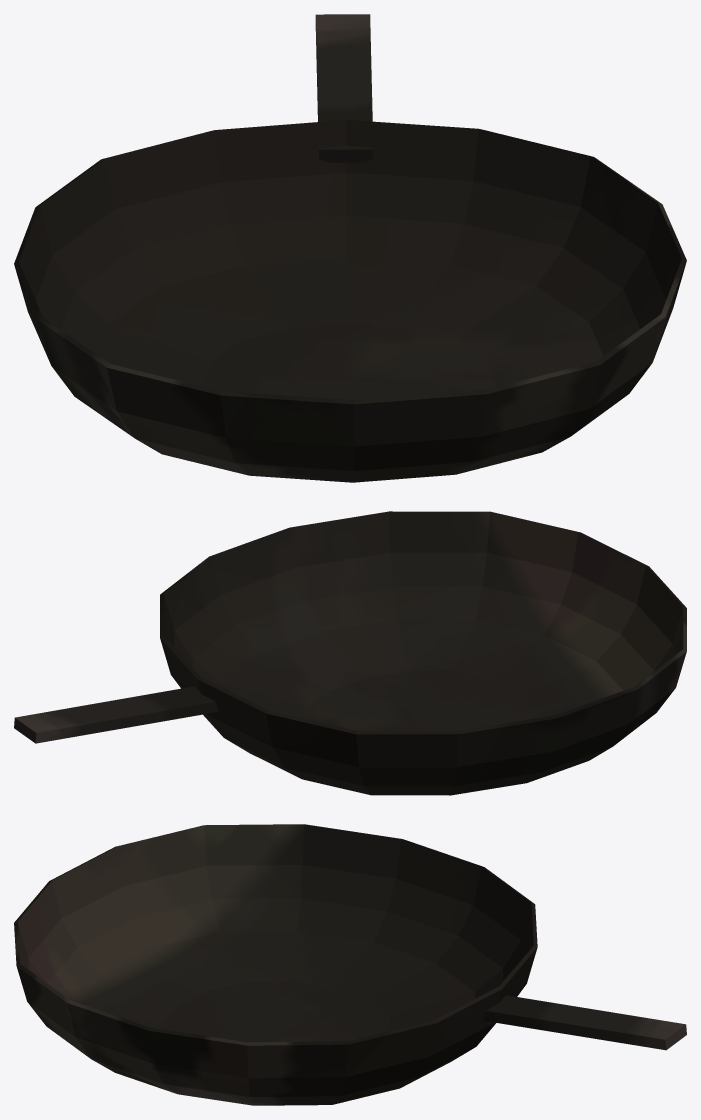
Rendered from SM_Cpan1.fbx.
3 renders of one model, top to bottom at view 1: azimuth 30°, elevation 25°; view 2: azimuth 150°, elevation 25°; view 3: azimuth 270°, elevation 25°, orthographic. The views are drawn at different scales.
Visible parts, largest first — view 1: SM_cookiing5; view 2: SM_cookiing5; view 3: SM_cookiing5.
Part boxes in pixels (bbox=[...]): SM_cookiing5: bbox=[14, 14, 686, 482]; SM_cookiing5: bbox=[14, 511, 686, 795]; SM_cookiing5: bbox=[14, 824, 686, 1105].
Size of the model in its own units: 38.03 by 8.18 by 48.88.
